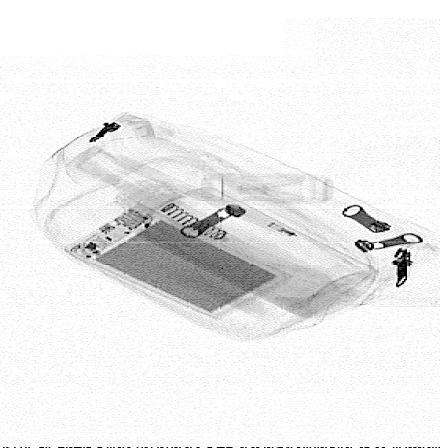Powerbank: (59, 203, 294, 322)
